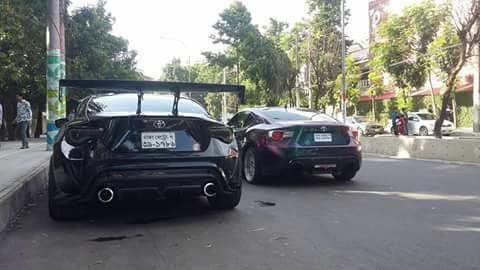registration_plate: (140, 130, 177, 149), (313, 132, 333, 142)
